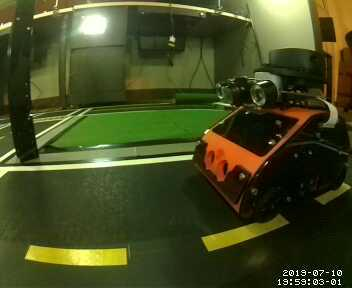pheeno: (193, 47, 352, 224)
